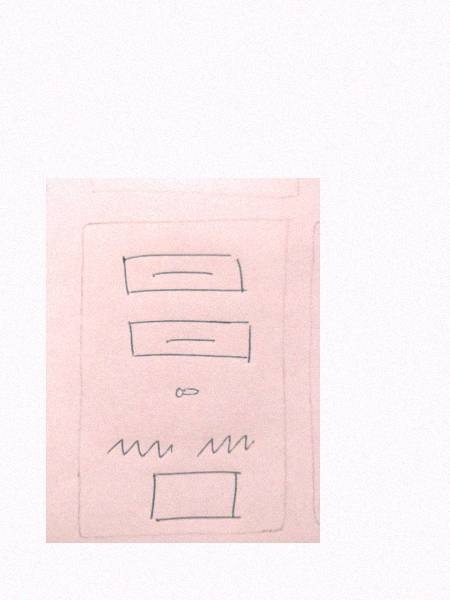button: (120, 313, 257, 365), (118, 250, 251, 299)
switch: (167, 379, 209, 401)
text: (186, 430, 264, 460), (103, 434, 176, 461)
text_input: (143, 468, 249, 526)
